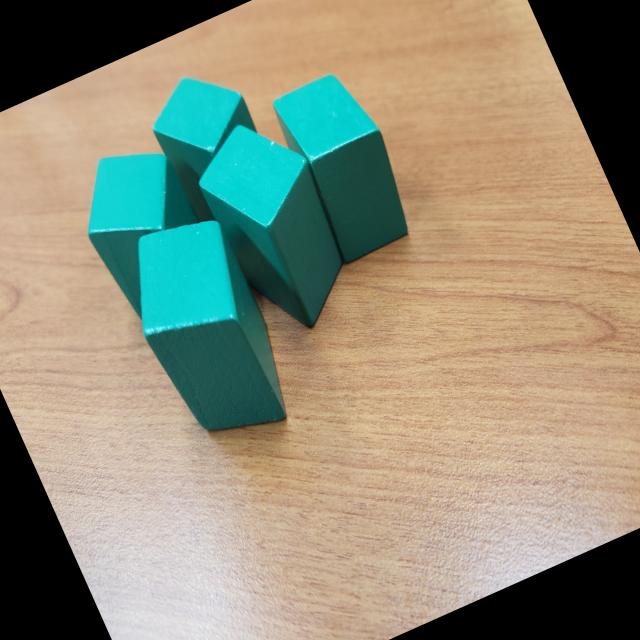green: (106, 203, 306, 459), (182, 105, 372, 348), (61, 130, 230, 330), (266, 64, 426, 268), (137, 56, 286, 230)
